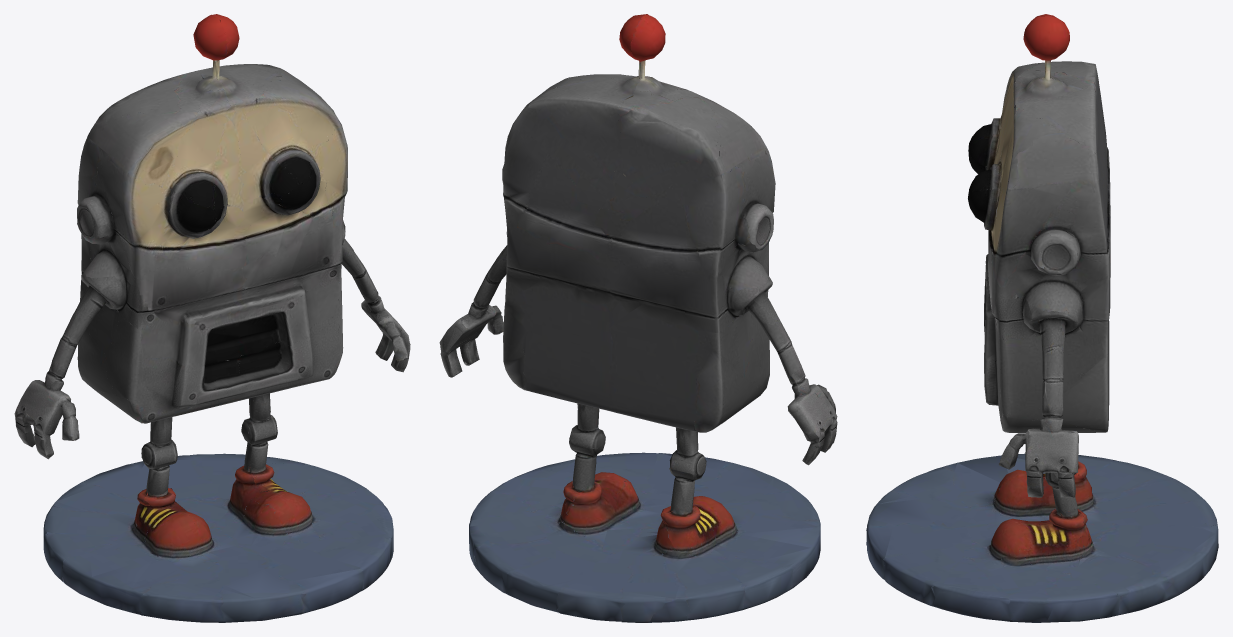
The model's file is rusty-buttonbot.glb.
3 views of the same model, side by side, from view 1: azimuth 30°, elevation 25°; view 2: azimuth 150°, elevation 25°; view 3: azimuth 270°, elevation 25° (orthographic).
Parts seen in each view (by area): view 1: Mesh_0; view 2: Mesh_0; view 3: Mesh_0.
Boxes of the visible parts, x1,y1,x2,y2 form: Mesh_0: (14,14,410,622); Mesh_0: (439,14,837,622); Mesh_0: (866,14,1218,622).
Bounding box in the file's own units: 1.41 × 1.9 × 1.14.
1 material, 1 textured.
